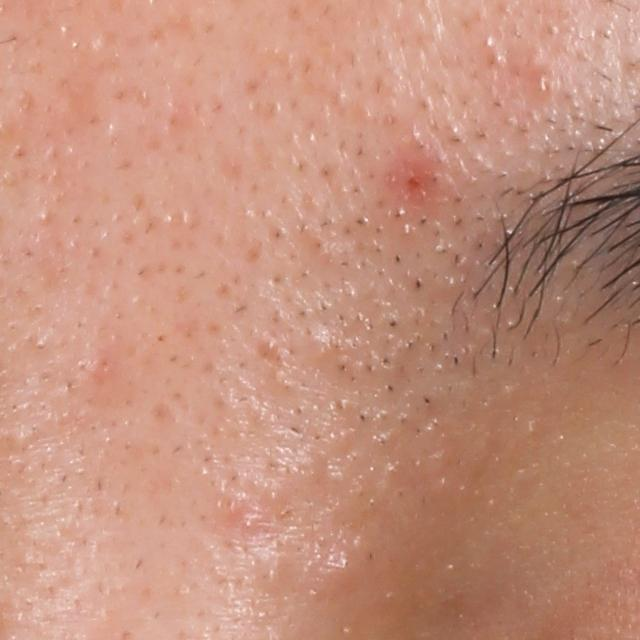comedo: (324, 550, 359, 589), (257, 557, 285, 594), (531, 71, 551, 100)
